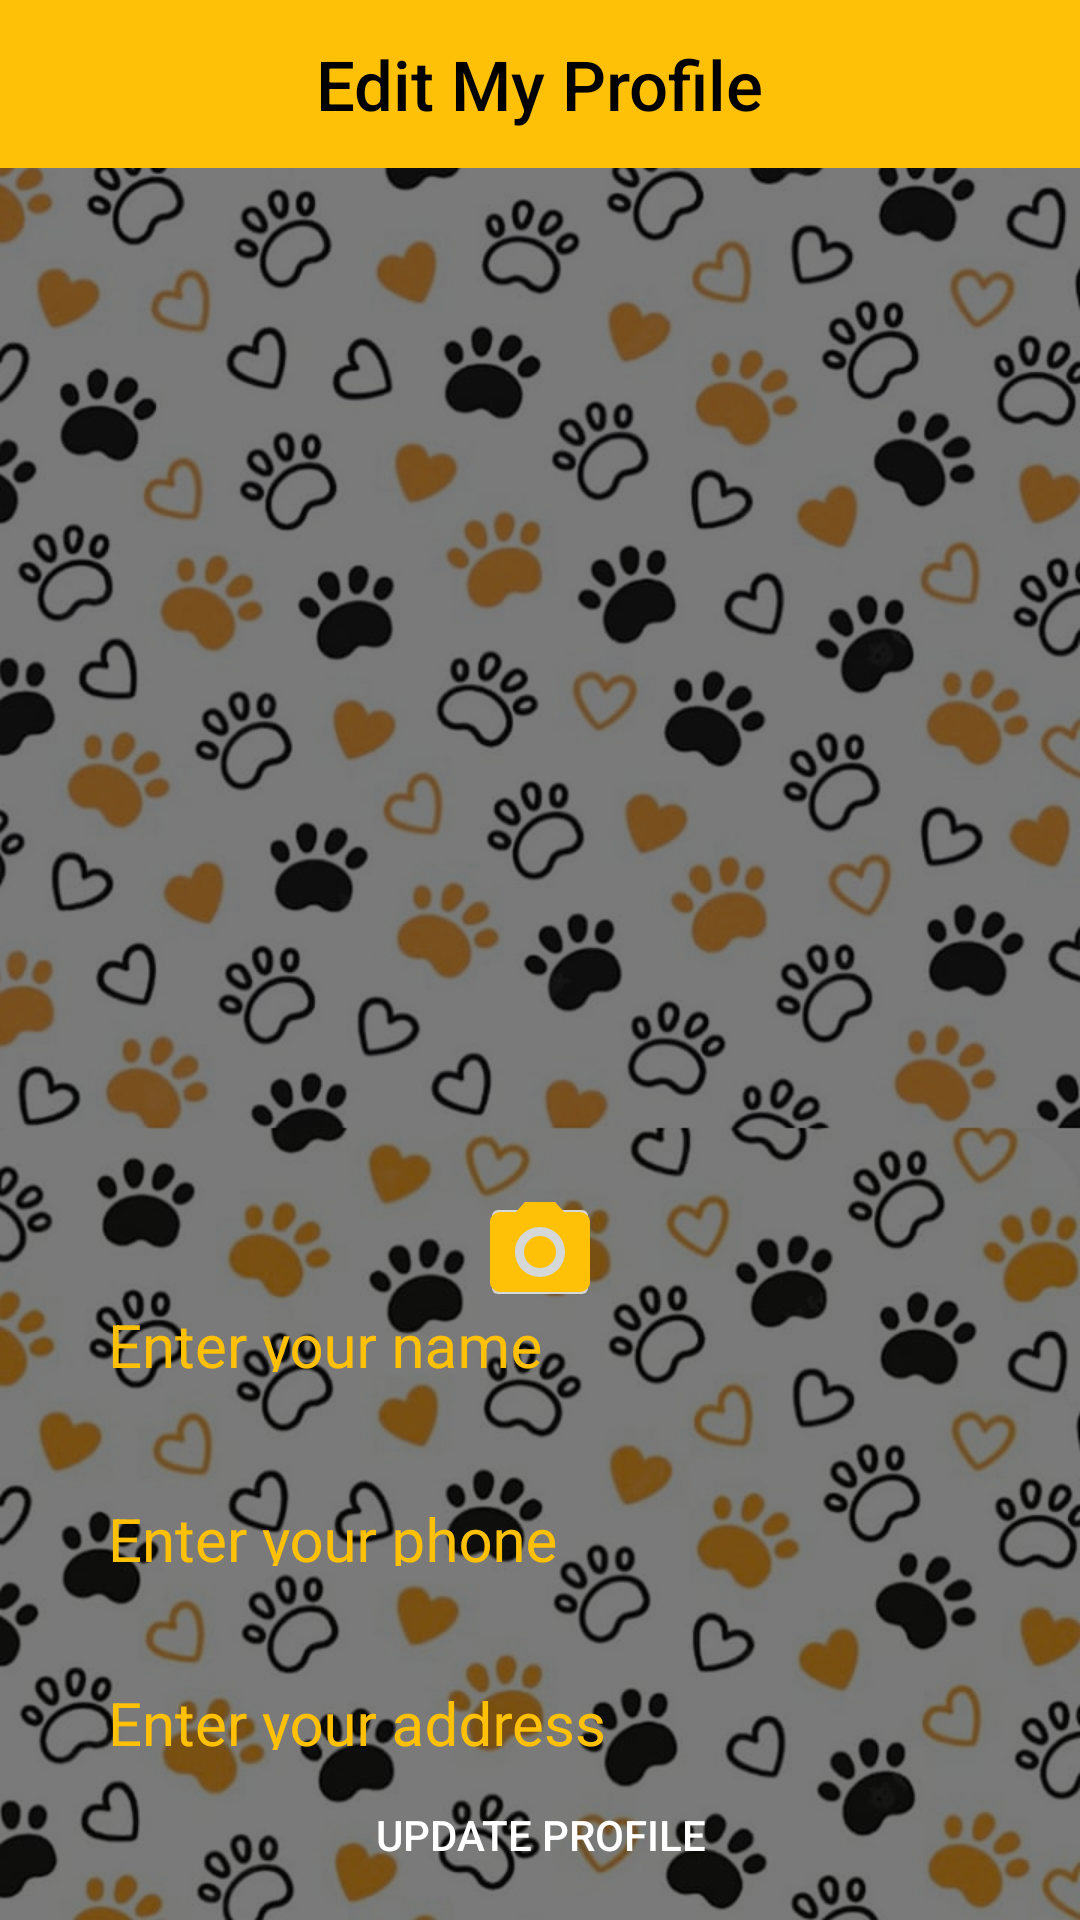

Where icons sit on this 1080*1920 app screen, as (x1, y1, x2, y2):
camera: (480, 1192, 600, 1297)
